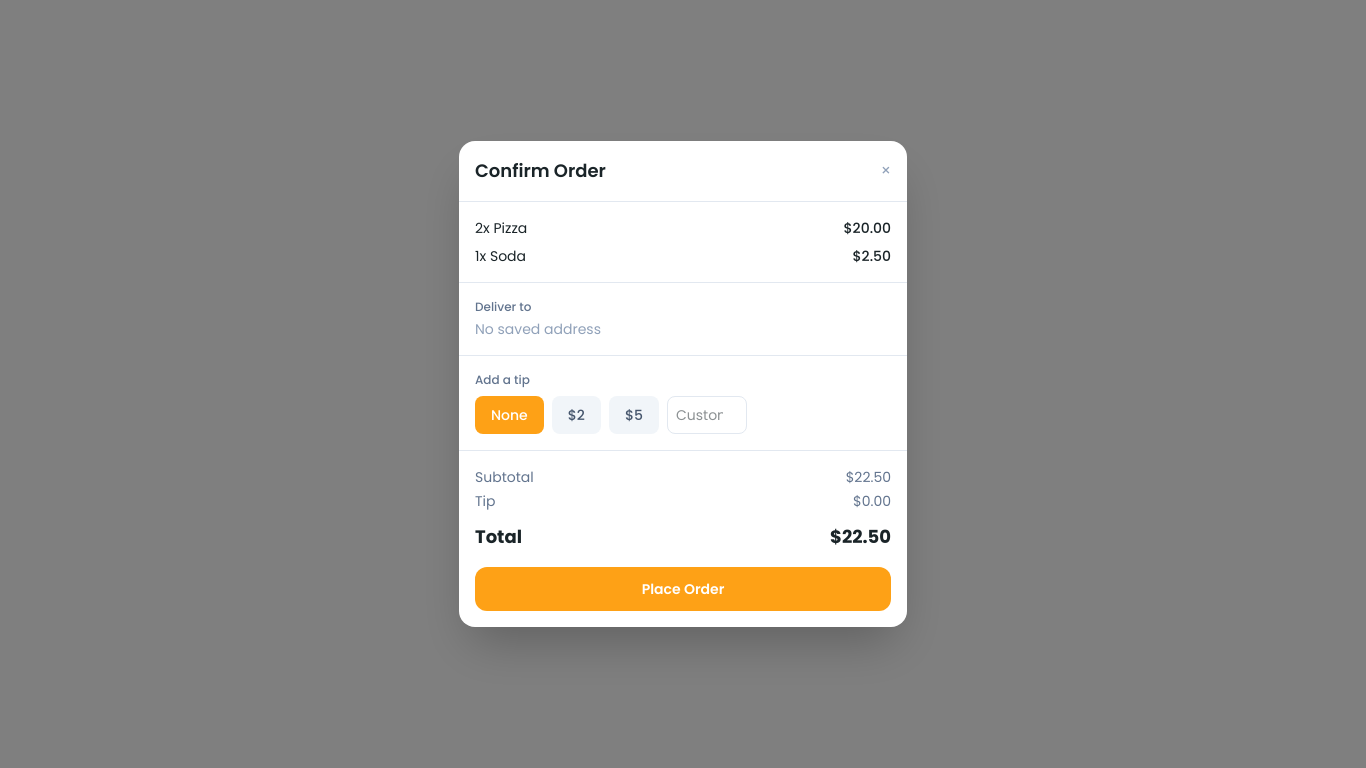
Scenario: CheckoutModal › typing a custom tip overrides preset and is shown in the summary
This screenshot has width=1366, height=768.
Type "3.5" into the number field with placeholder "Custom" at {"x": 707, "y": 415}, box [667,396,747,434]
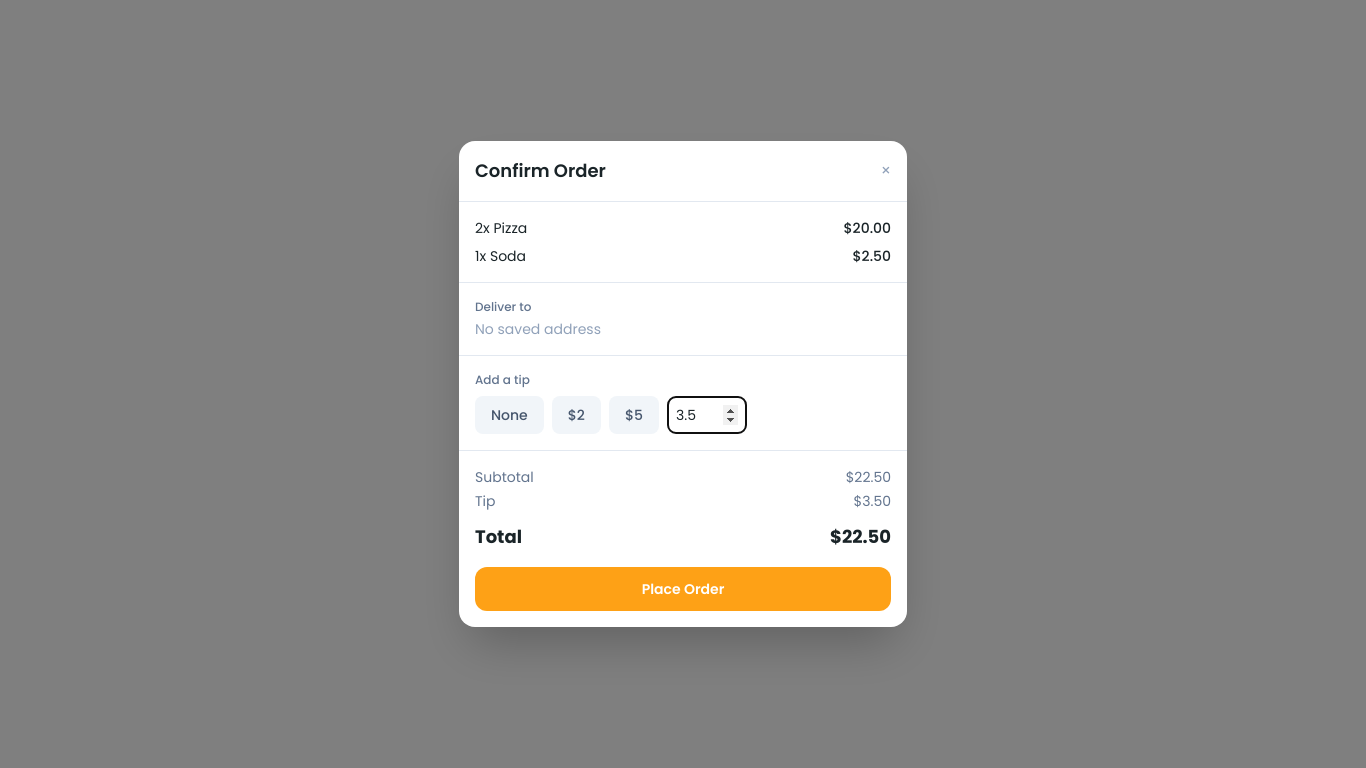
Result: the text "$3.50" is shown at [854,491,891,511]
